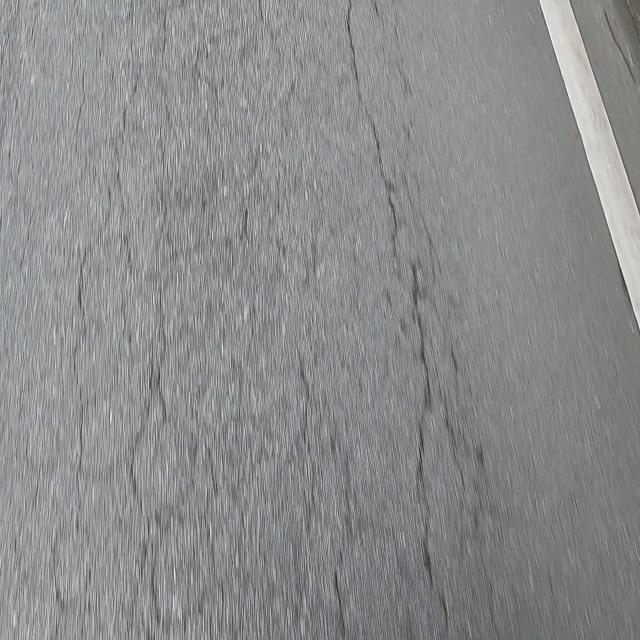Retak-Buaya: (63, 2, 352, 640)
Retak-Memanjang: (345, 1, 401, 277), (409, 267, 447, 626)
